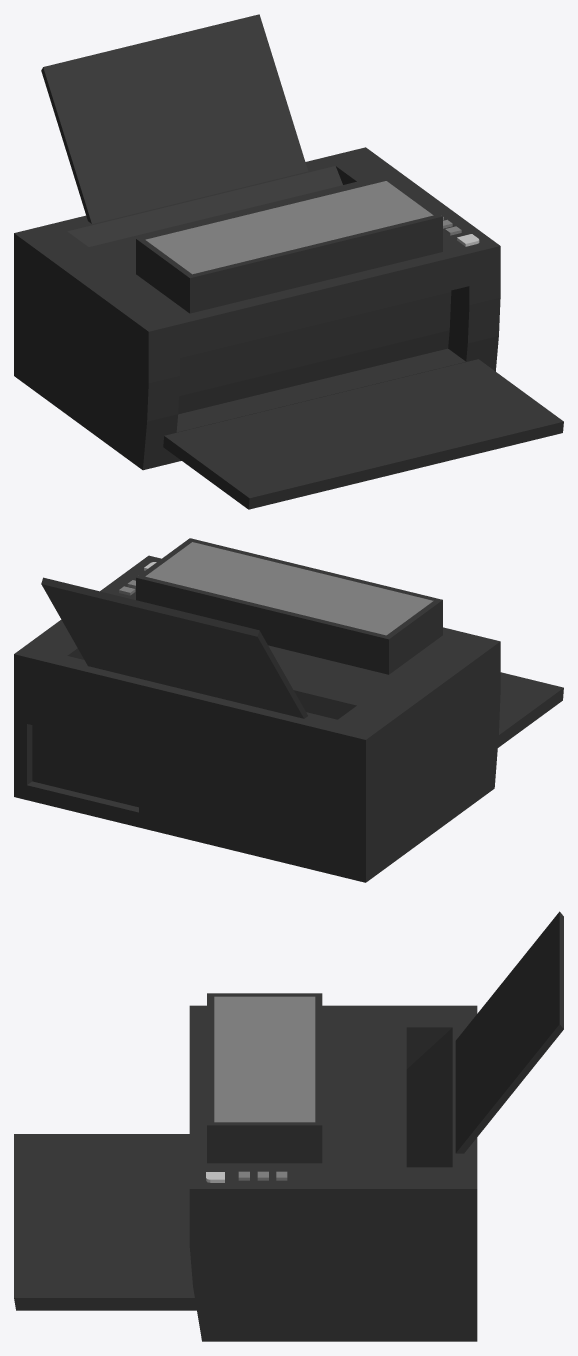
File: impri.fbx
3 renders of one model, top to bottom at view 1: azimuth 30°, elevation 25°; view 2: azimuth 150°, elevation 25°; view 3: azimuth 270°, elevation 25°, orthographic. The views are drawn at different scales.
Parts seen in each view (by area): view 1: Printer; view 2: Printer; view 3: Printer.
Boxes of the visible parts, x1=… form: Printer: x1=14, y1=14, x2=563, y2=509; Printer: x1=14, y1=538, x2=563, y2=882; Printer: x1=14, y1=911, x2=563, y2=1341.
Bounding box in the file's own units: 72.27 × 51.86 × 91.58.
1 material, 1 textured.
